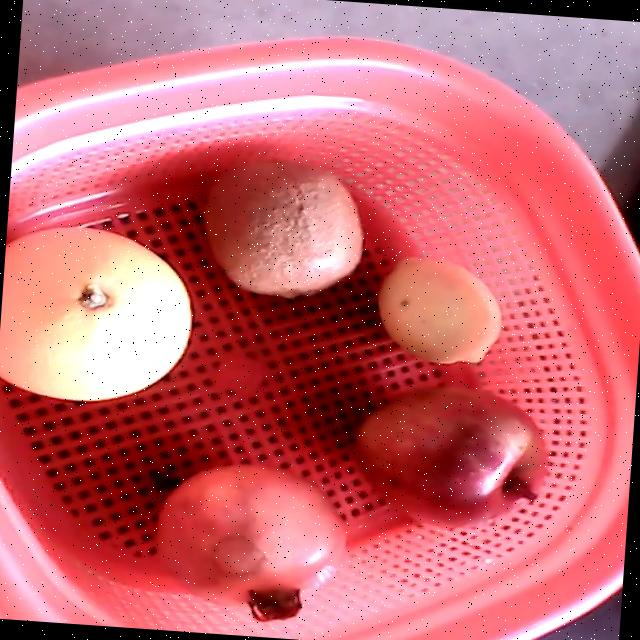apple: (355, 387, 548, 530)
kiwi: (203, 159, 362, 295)
lemon: (376, 257, 502, 365)
orange: (0, 227, 190, 400)
pomegranate: (150, 465, 346, 621)
